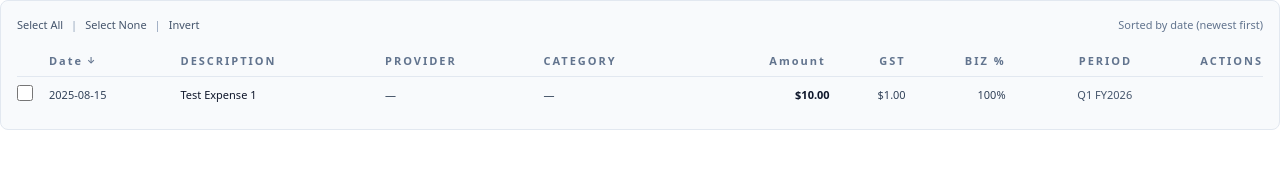
Test: ExpensesTable › Bulk Operations › shows bulk action toolbar only when rows are selected
Expected: the text "selected" is not shown
Click the checkbox named "select expense": (25, 93) [17,85,33,101]
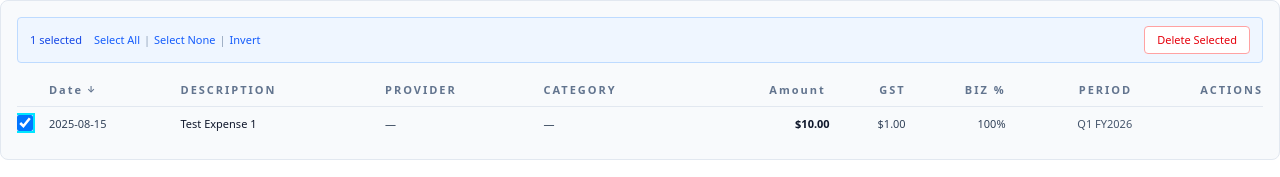
Now the text "1 selected" is shown, box [30,32,82,48]
